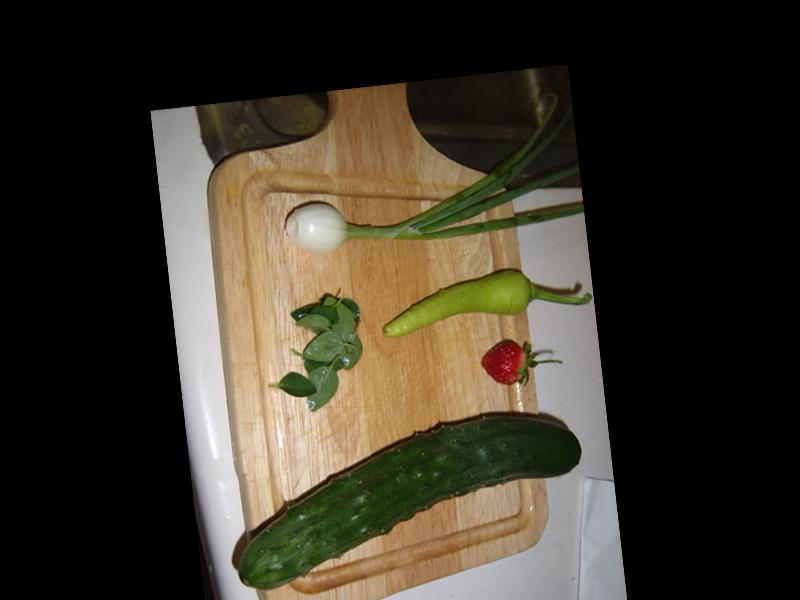Cucumber: (224, 406, 591, 592)
